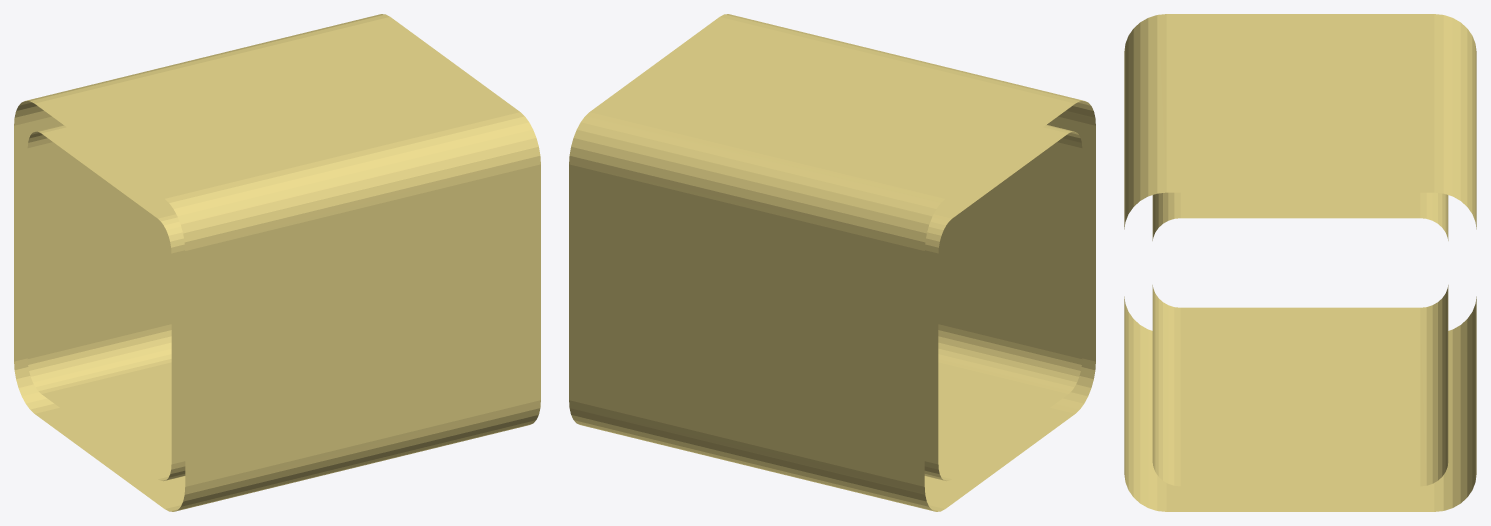
File: RailLeft_18.obj
3 renders of one model, left to right at view 1: azimuth 30°, elevation 25°; view 2: azimuth 150°, elevation 25°; view 3: azimuth 270°, elevation 25°, orthographic. The views are drawn at different scales.
Visible parts, largest first — view 1: RailLeft_18_14; view 2: RailLeft_18_14; view 3: RailLeft_18_14.
Part boxes in pixels (box(x1,y1,x2,y2)): RailLeft_18_14: box(14, 14, 540, 511); RailLeft_18_14: box(569, 14, 1095, 511); RailLeft_18_14: box(1124, 14, 1476, 511).
Size of the model in its own units: 0.03 by 0.025 by 0.025.
